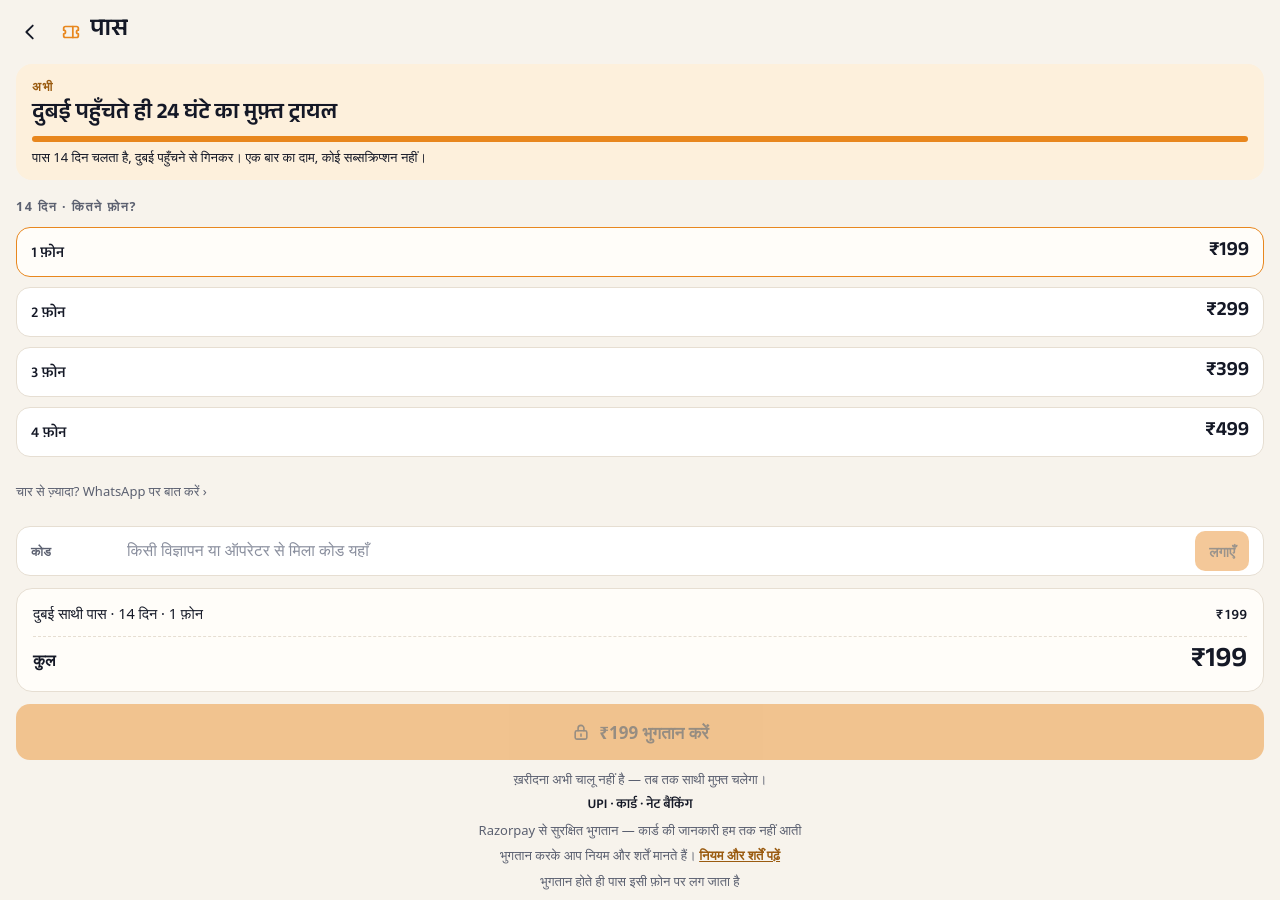
Test case: घर.4 › shows the balance for a partial code and issues nothing
Click the button "2 फ़ोन ₹299" at (48, 312), box [16, 287, 1264, 337]
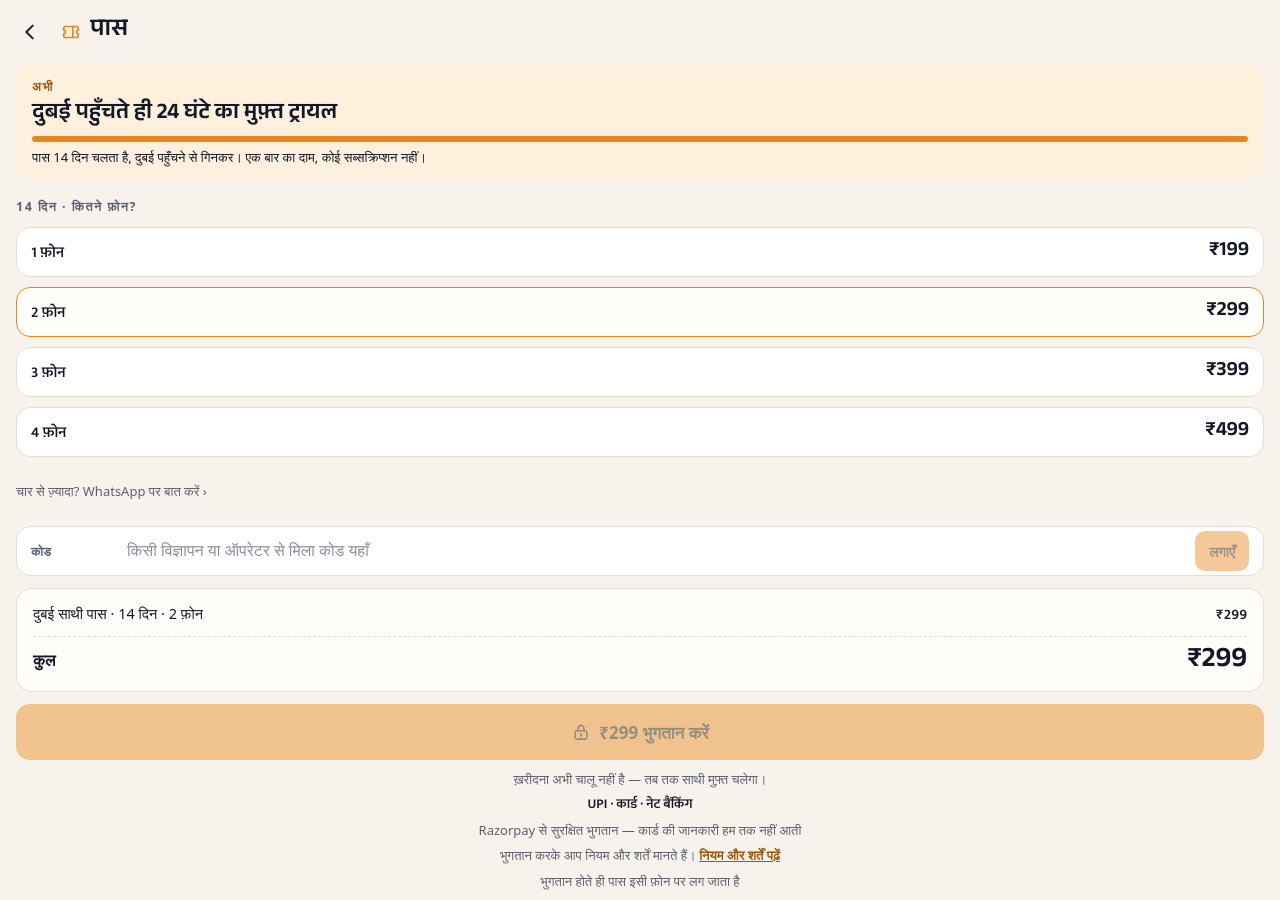
Type "SS7K3M2X" into the field labelled "कोड" at (655, 551), box [125, 527, 1185, 575]
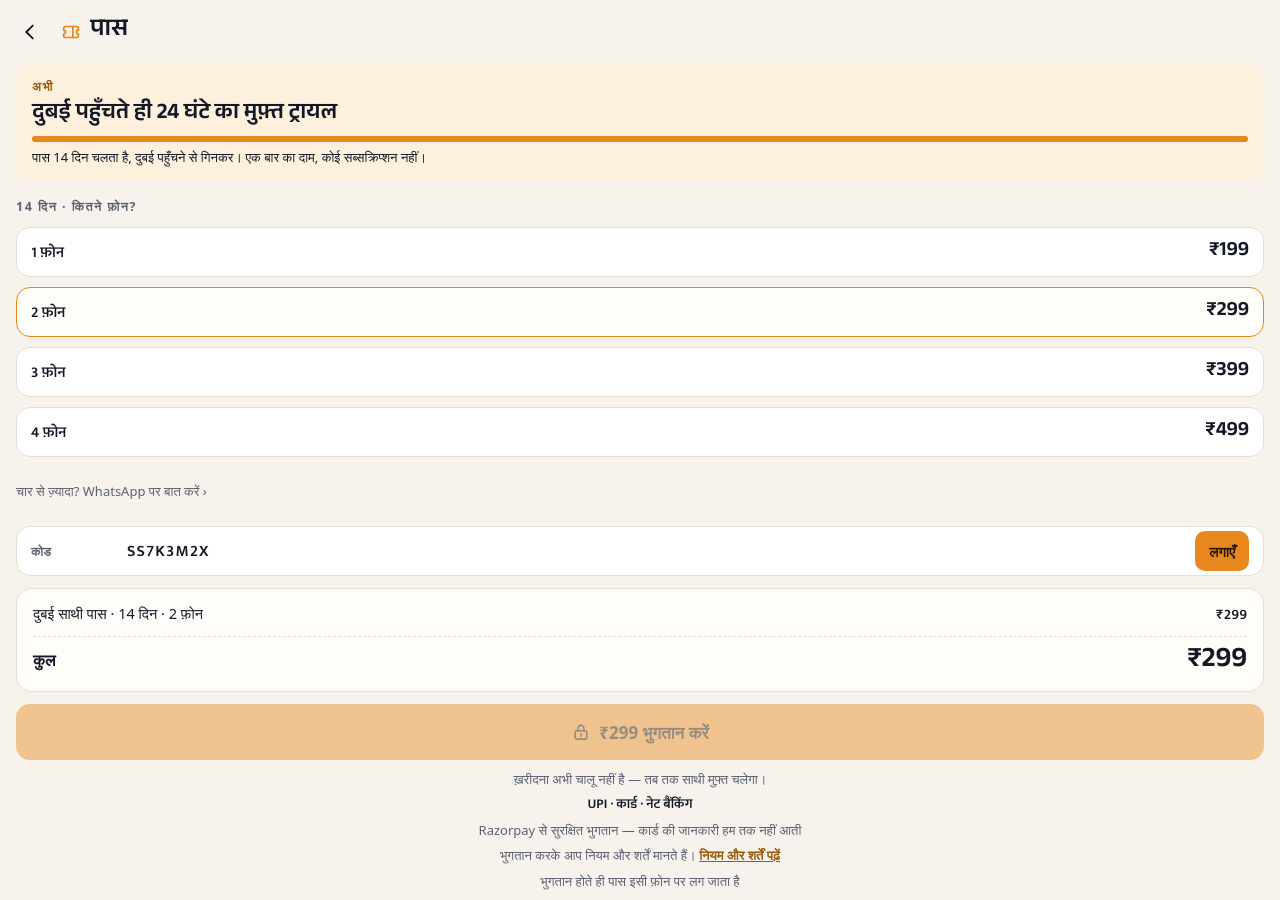
Click the button "लगाएँ" at (1222, 551), box [1195, 531, 1249, 571]
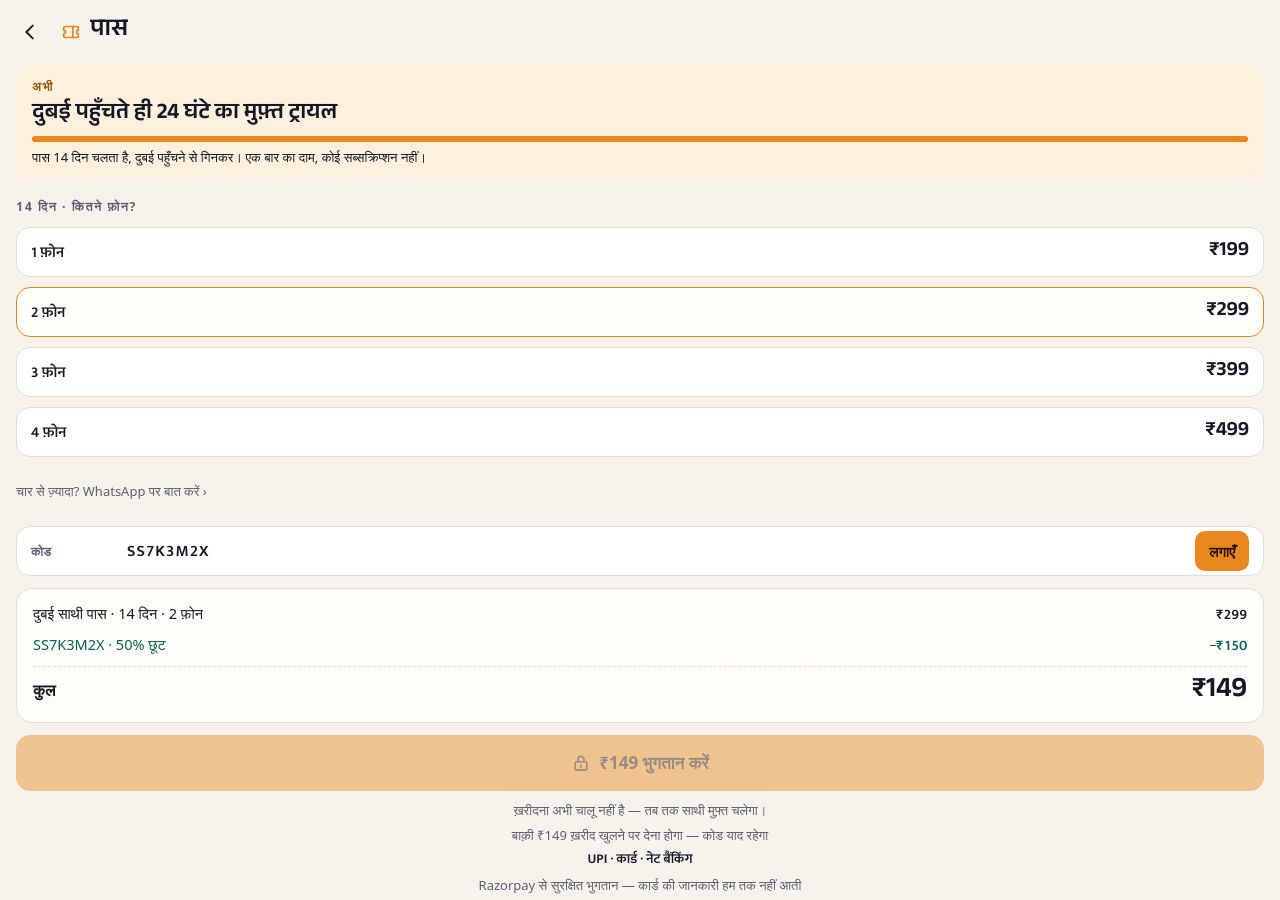
Expected: the text "SS7K3M2X · 50% छूट" is shown, [33, 634, 166, 654]
Expected: the text "₹149" is shown, [1192, 677, 1247, 708]
Expected: the text "−₹150" is shown, [1209, 636, 1247, 656]
Click the button "3 फ़ोन ₹399" at (48, 372), box [16, 347, 1264, 397]
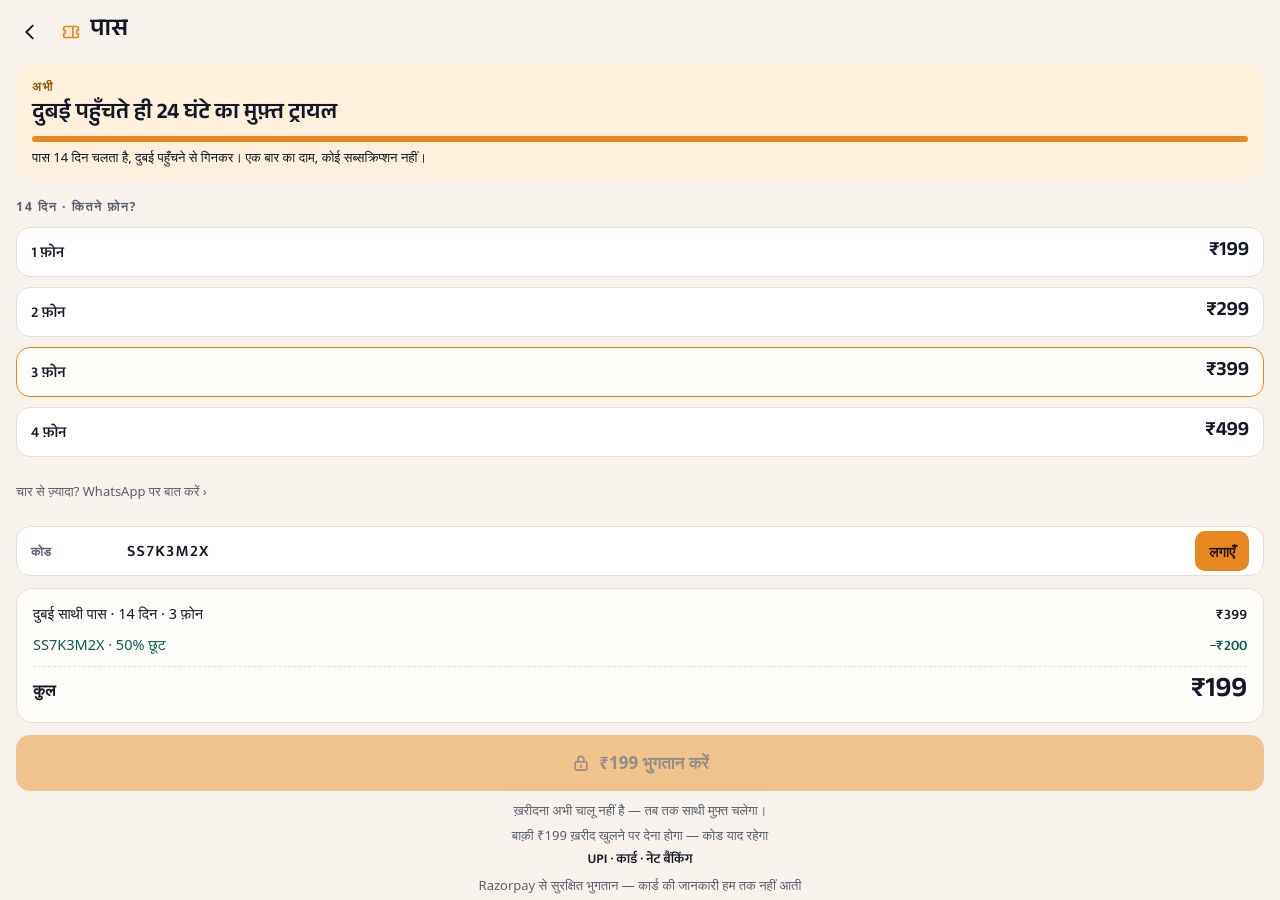
Expected: the text "₹199" in the row of "कुल" is shown, [1191, 668, 1247, 715]
